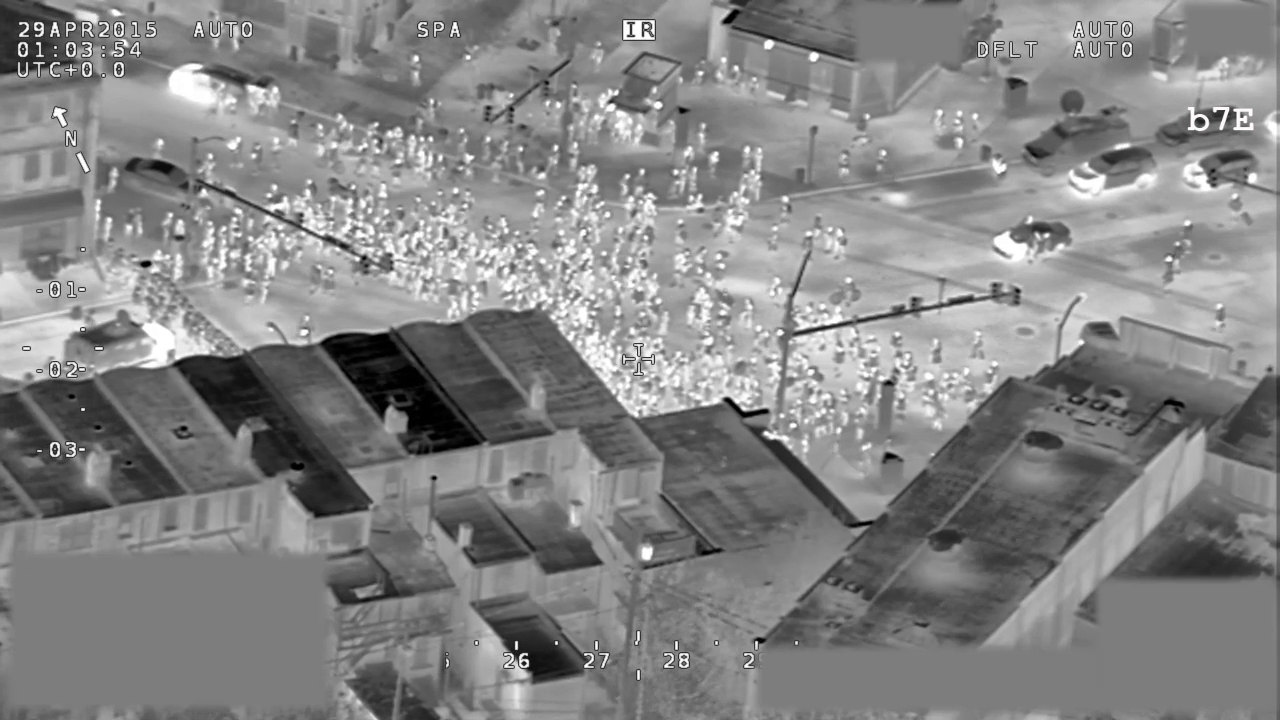vehicle: (1023, 88, 1137, 182), (63, 306, 180, 379), (168, 58, 284, 117), (1062, 143, 1163, 199), (1153, 103, 1254, 153), (118, 154, 208, 209), (987, 216, 1075, 267), (1180, 147, 1263, 191)
